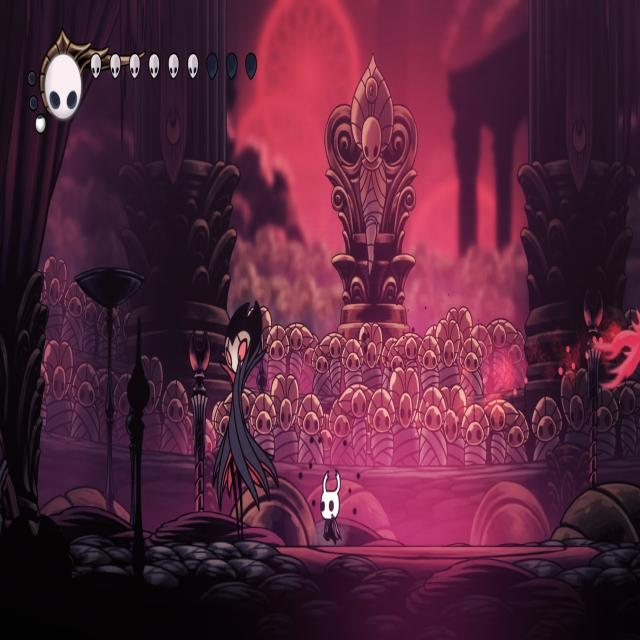Fire Bat: (591, 305, 640, 393)
Grimm: (214, 297, 284, 542)
Player: (316, 465, 342, 547)
